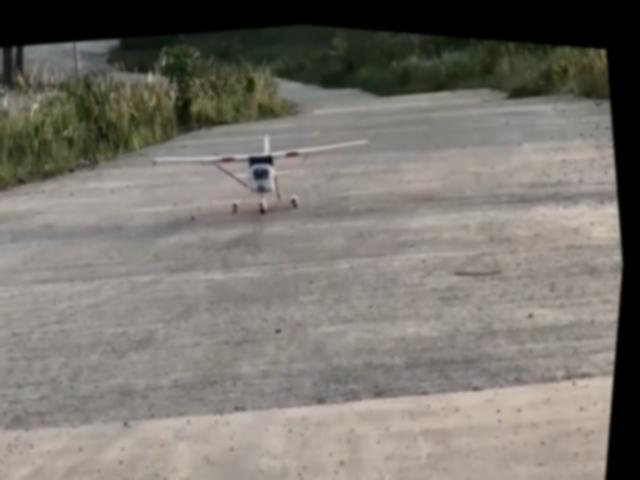plane: (150, 108, 380, 229)
